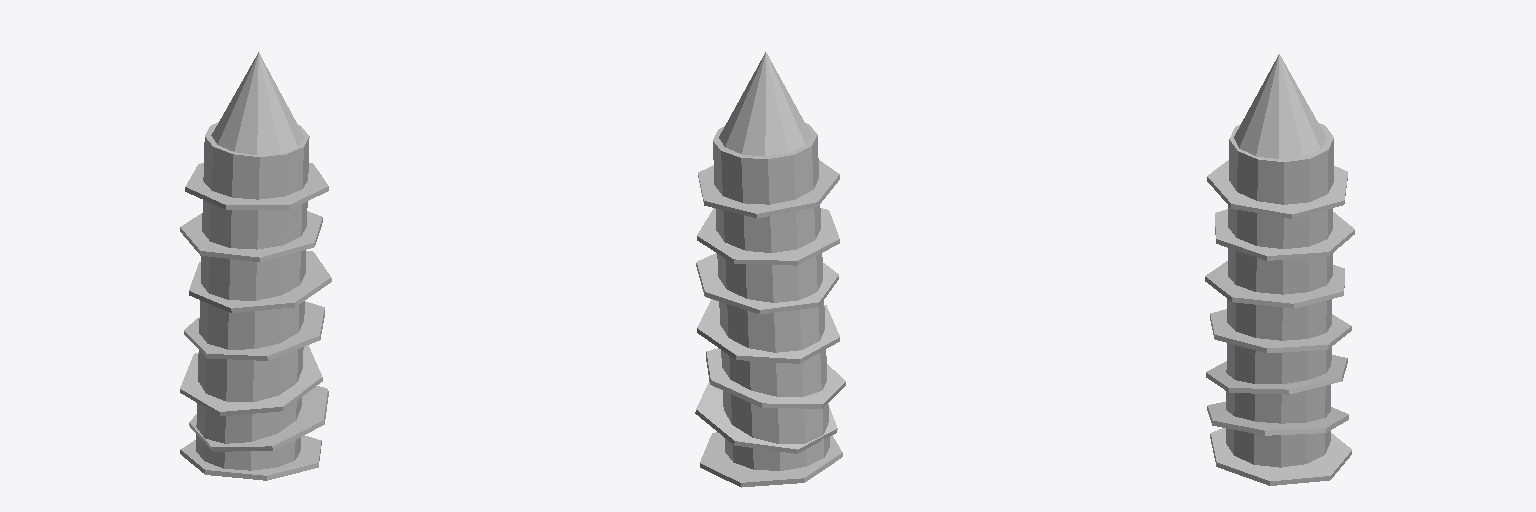
The picture shows the model from 3 angles: view 1: azimuth 30°, elevation 25°; view 2: azimuth 150°, elevation 25°; view 3: azimuth 270°, elevation 25°; orthographic projection.
Parts seen in each view (by area): view 1: group[number redacted], group[number redacted], group[number redacted], group[number redacted], group[number redacted], group[number redacted], group[number redacted], group[number redacted], group[number redacted]; view 2: group[number redacted], group[number redacted], group[number redacted], group[number redacted], group[number redacted], group[number redacted], group[number redacted], group[number redacted], group[number redacted]; view 3: group[number redacted], group[number redacted], group[number redacted], group[number redacted], group[number redacted], group[number redacted], group[number redacted], group[number redacted], group[number redacted].
Boxes of the visible parts, x1,y1,x2,y2 form: group[number redacted]: [196, 122, 309, 470]; group[number redacted]: [211, 52, 304, 154]; group[number redacted]: [180, 345, 322, 415]; group[number redacted]: [189, 251, 331, 312]; group[number redacted]: [184, 301, 324, 360]; group[number redacted]: [180, 211, 322, 261]; group[number redacted]: [189, 386, 328, 451]; group[number redacted]: [185, 163, 328, 209]; group[number redacted]: [180, 435, 321, 480]; group[number redacted]: [713, 123, 829, 470]; group[number redacted]: [719, 52, 811, 156]; group[number redacted]: [700, 432, 842, 487]; group[number redacted]: [697, 208, 839, 265]; group[number redacted]: [697, 299, 839, 363]; group[number redacted]: [698, 160, 839, 218]; group[number redacted]: [696, 253, 838, 314]; group[number redacted]: [706, 348, 845, 408]; group[number redacted]: [695, 382, 837, 453]; group[number redacted]: [1226, 123, 1333, 467]; group[number redacted]: [1234, 54, 1326, 158]; group[number redacted]: [1210, 428, 1351, 485]; group[number redacted]: [1207, 160, 1347, 218]; group[number redacted]: [1205, 261, 1344, 308]; group[number redacted]: [1215, 209, 1354, 260]; group[number redacted]: [1210, 309, 1351, 352]; group[number redacted]: [1207, 402, 1348, 435]; group[number redacted]: [1206, 355, 1347, 394].
Size of the model in its own units: 0.1441 by 0.4278 by 0.143.